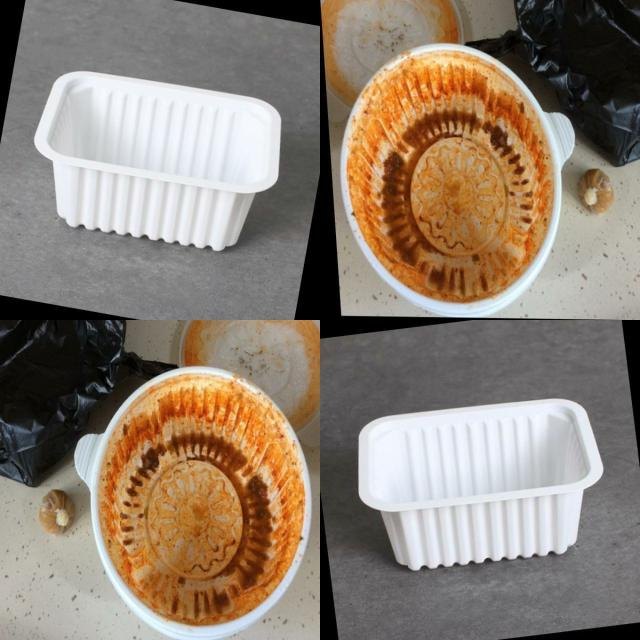Single-layer Plastic: (0, 320, 171, 486), (470, 0, 640, 166)
